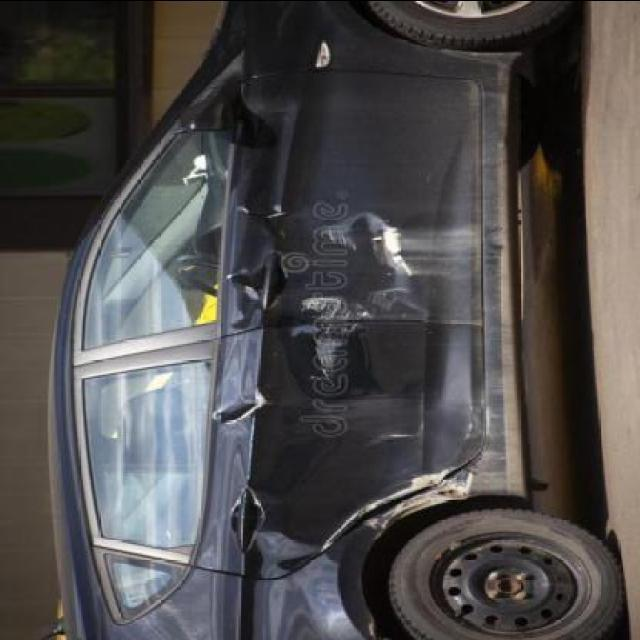doorouter-dent: (206, 62, 536, 350), (210, 315, 533, 571)
